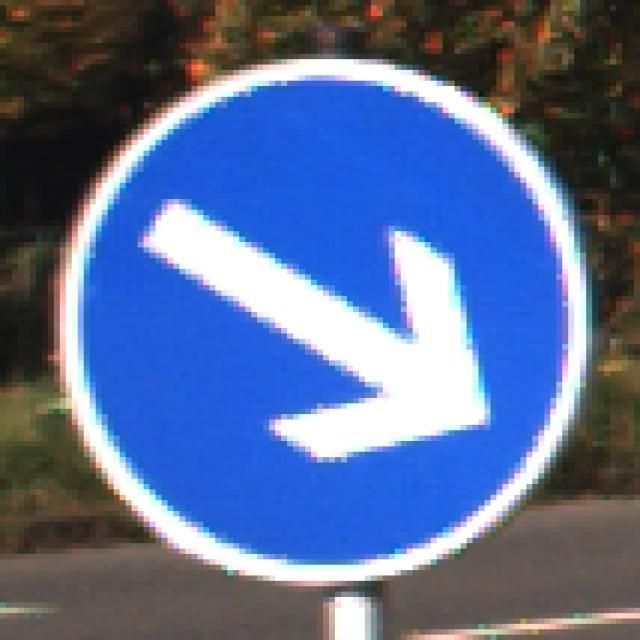compulsary keep right: (56, 59, 592, 588)
